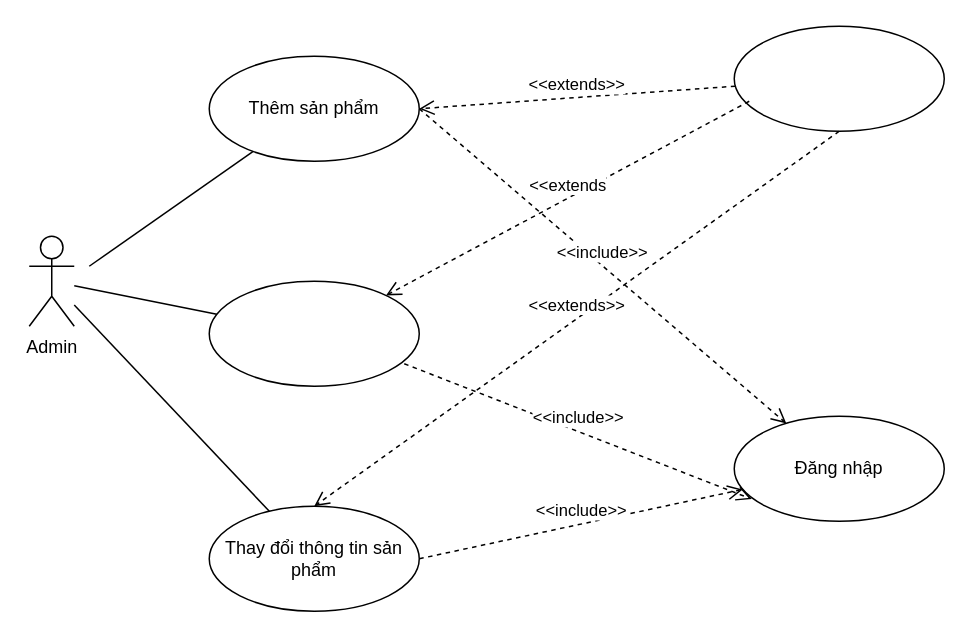
The diagram is 971 pixels wide and 638 high, and some of its shapes have lost their labels. Here are the shapes that lost their labels. From the top down, the centre of each, then its label:
At (838,78): "Xem danh sách sản phẩm".
At (313,333): "Xóa sản phẩm".
